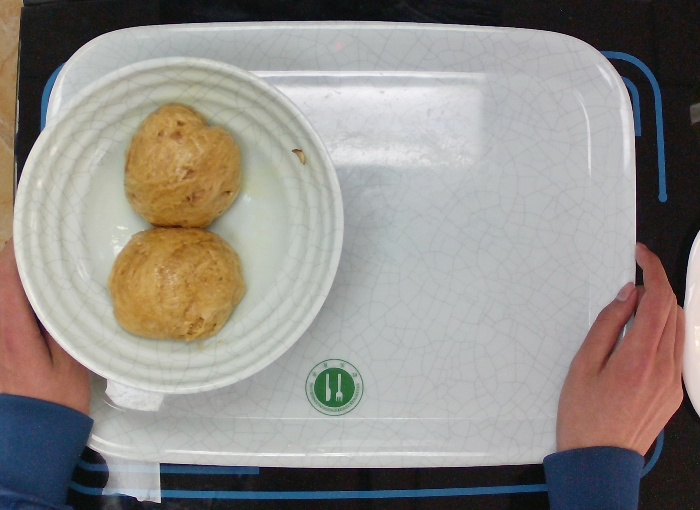JYsf-Da_Tang_Wan: (7, 51, 349, 398)
